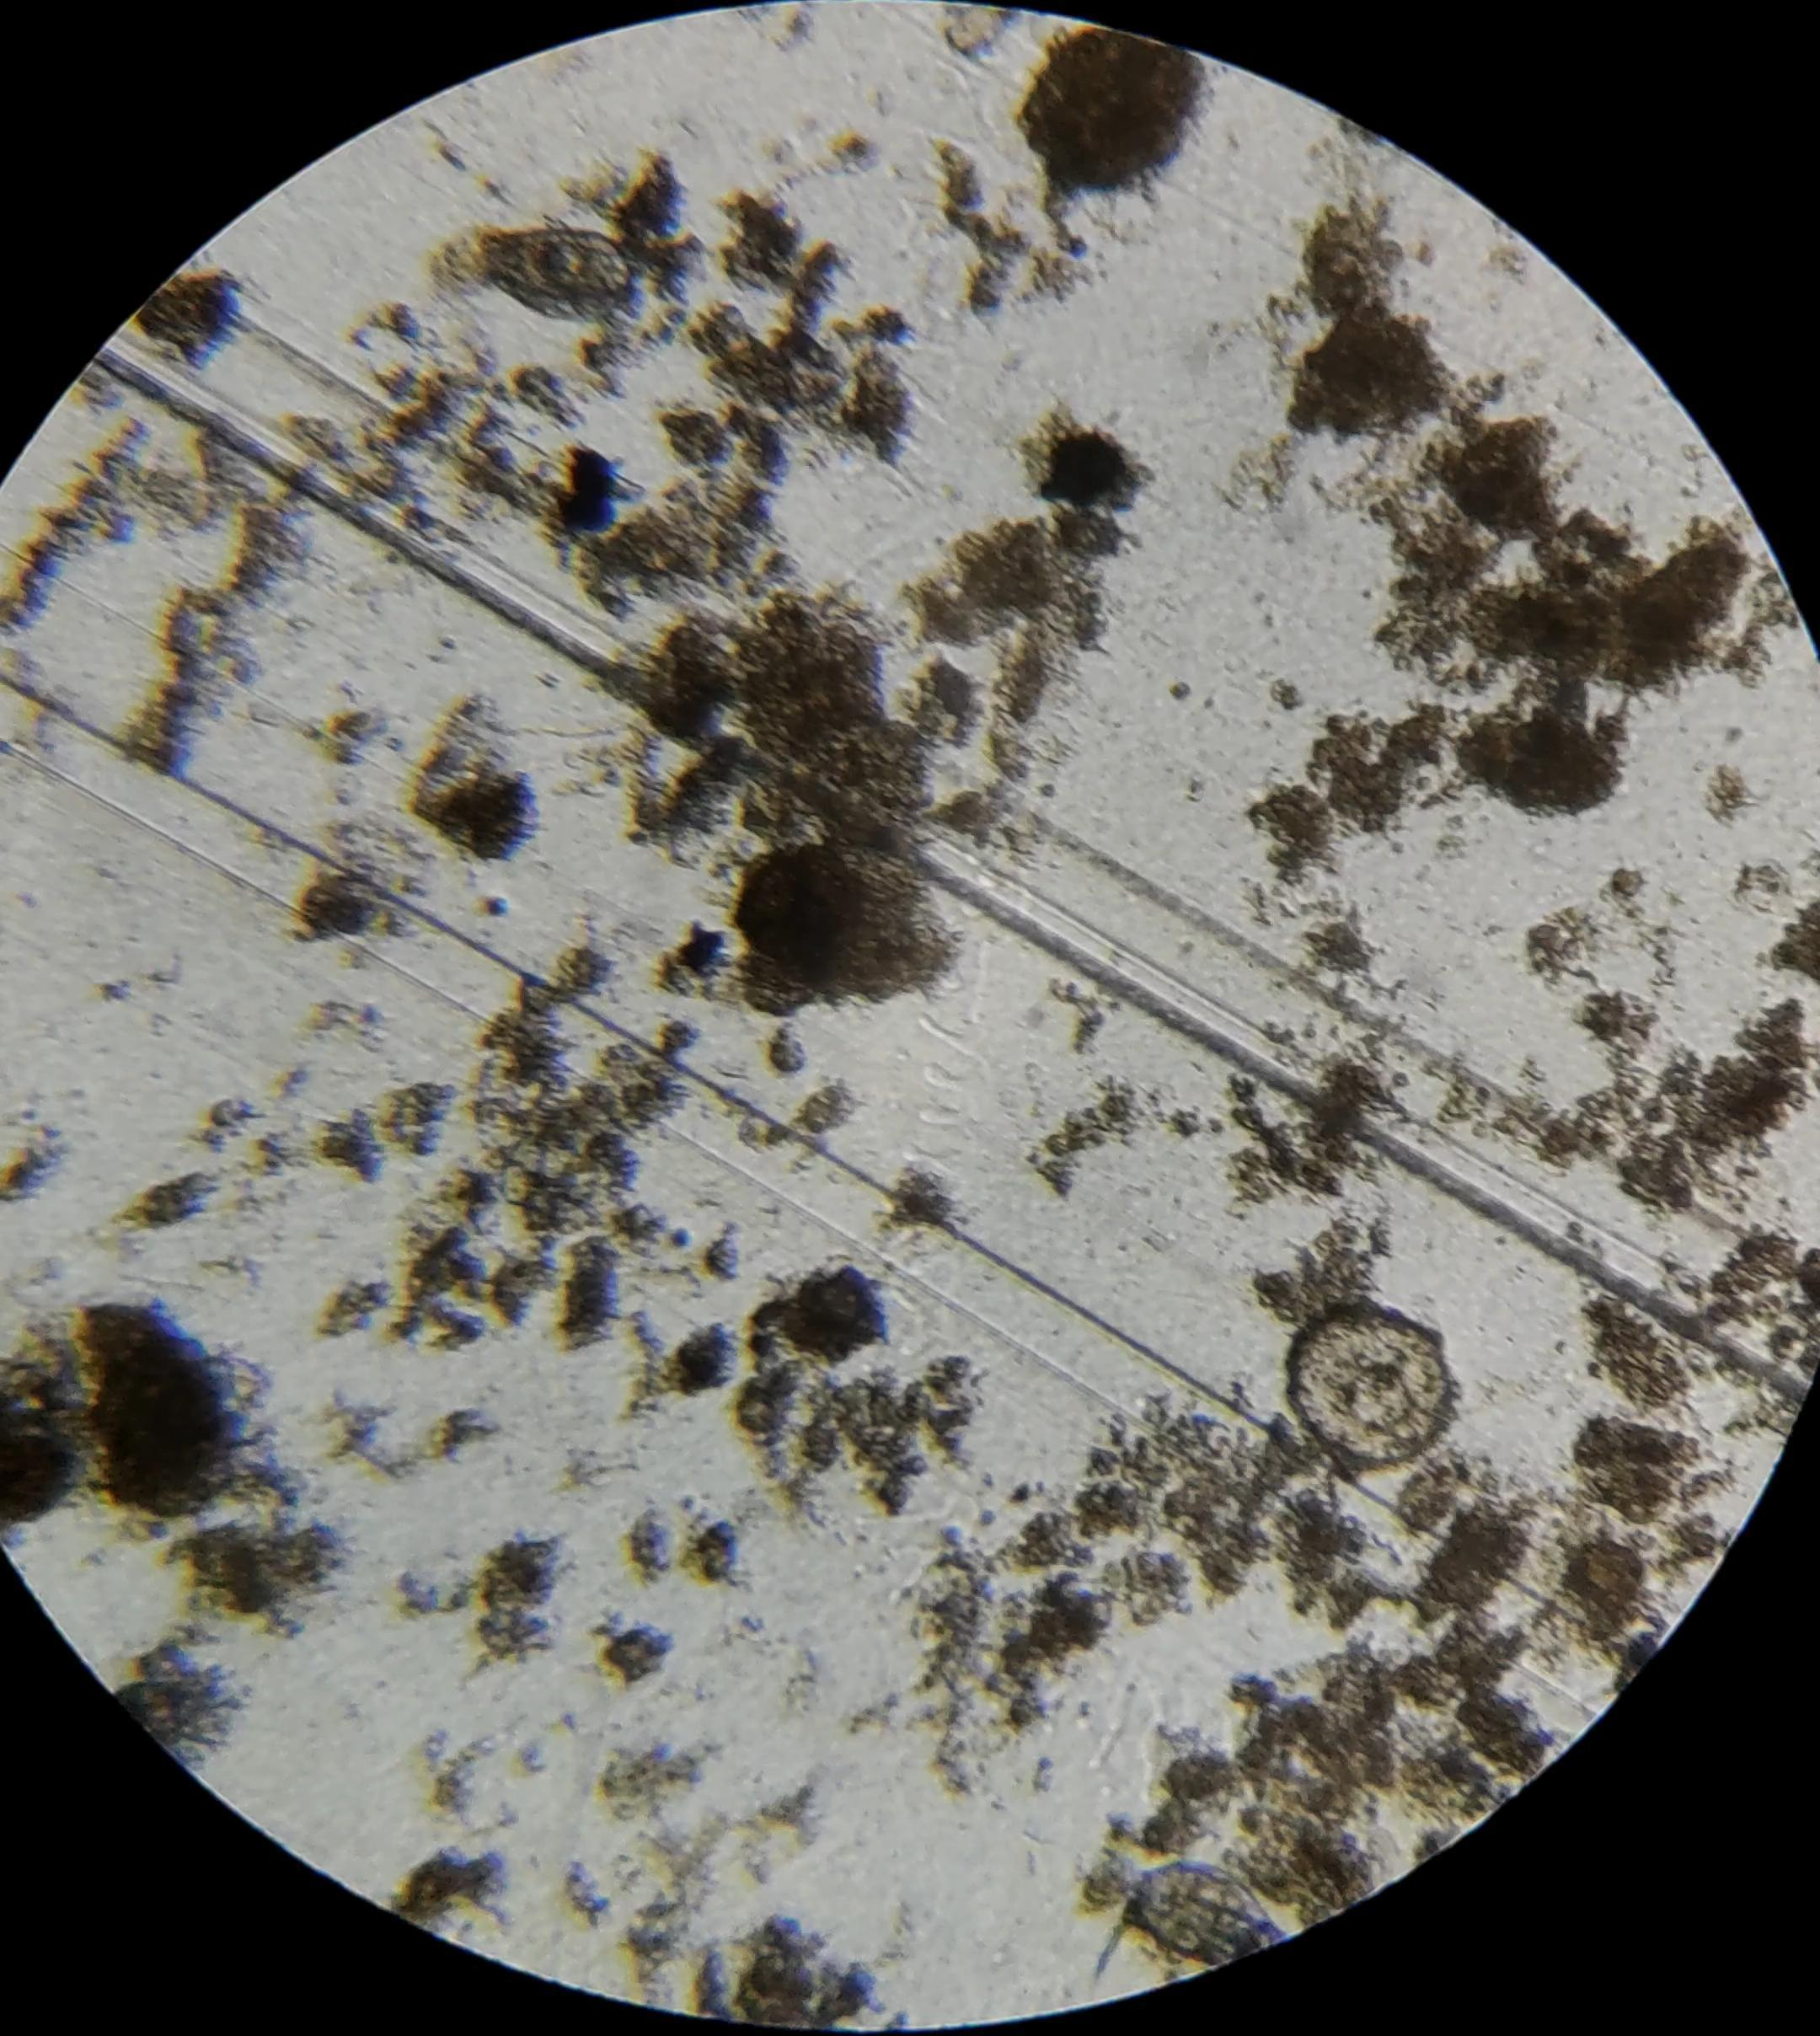Arcella: (1293, 1310, 1448, 1462)
Mo: (1094, 1864, 1286, 1980), (485, 228, 687, 320)
